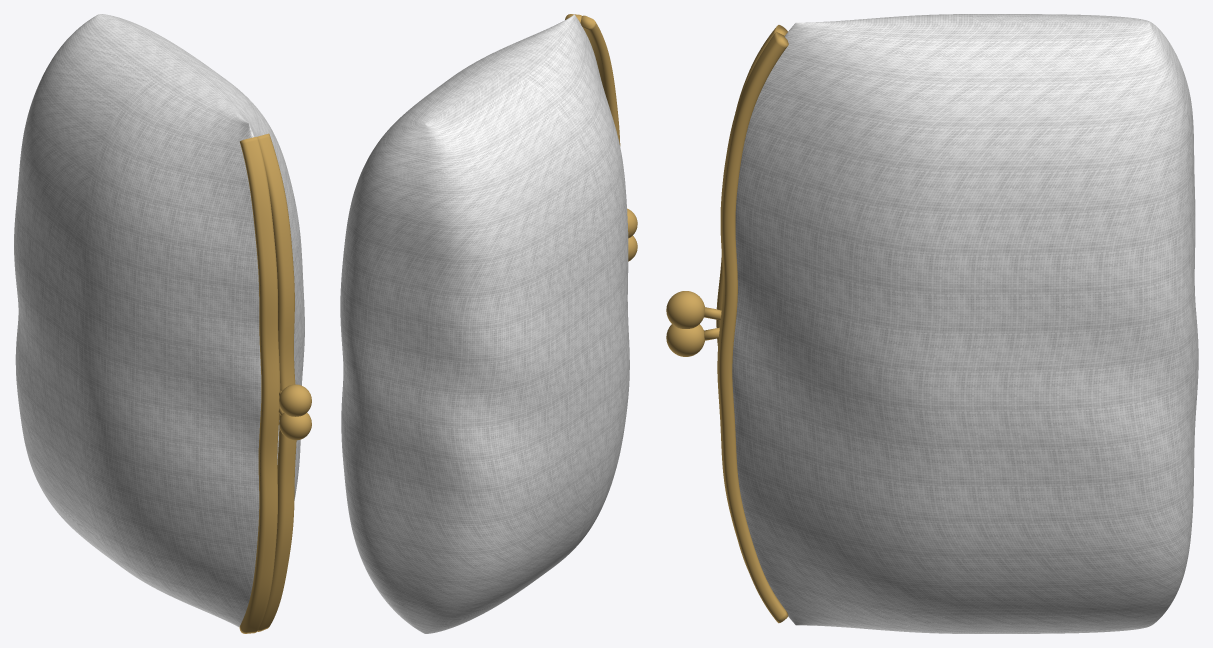
The model's file is pouch-gama.glb.
The picture shows the model from 3 angles, left to right: view 1: azimuth 30°, elevation 25°; view 2: azimuth 150°, elevation 25°; view 3: azimuth 270°, elevation 25°; orthographic projection. The views are drawn at different scales.
Parts seen in each view (by area): view 1: Body, Clasp_B, Clasp_F, ClaspBall_1, ClaspBall_0; view 2: Body, Clasp_B; view 3: Body, Clasp_F, ClaspBall_1, ClaspBall_0.
Boxes of the visible parts, <box> form: Body: <box>14,14,304,627</box>; Clasp_B: <box>239,136,280,633</box>; Clasp_F: <box>257,133,296,631</box>; ClaspBall_1: <box>279,384,311,416</box>; ClaspBall_0: <box>279,412,311,440</box>; Body: <box>340,14,629,633</box>; Clasp_B: <box>580,15,620,145</box>; Body: <box>732,14,1198,633</box>; Clasp_F: <box>717,31,788,623</box>; ClaspBall_1: <box>666,291,704,328</box>; ClaspBall_0: <box>666,324,704,356</box>.
Size of the model in its own units: 0.0626 by 0.15 by 0.1201.
2 materials, 1 textured.
